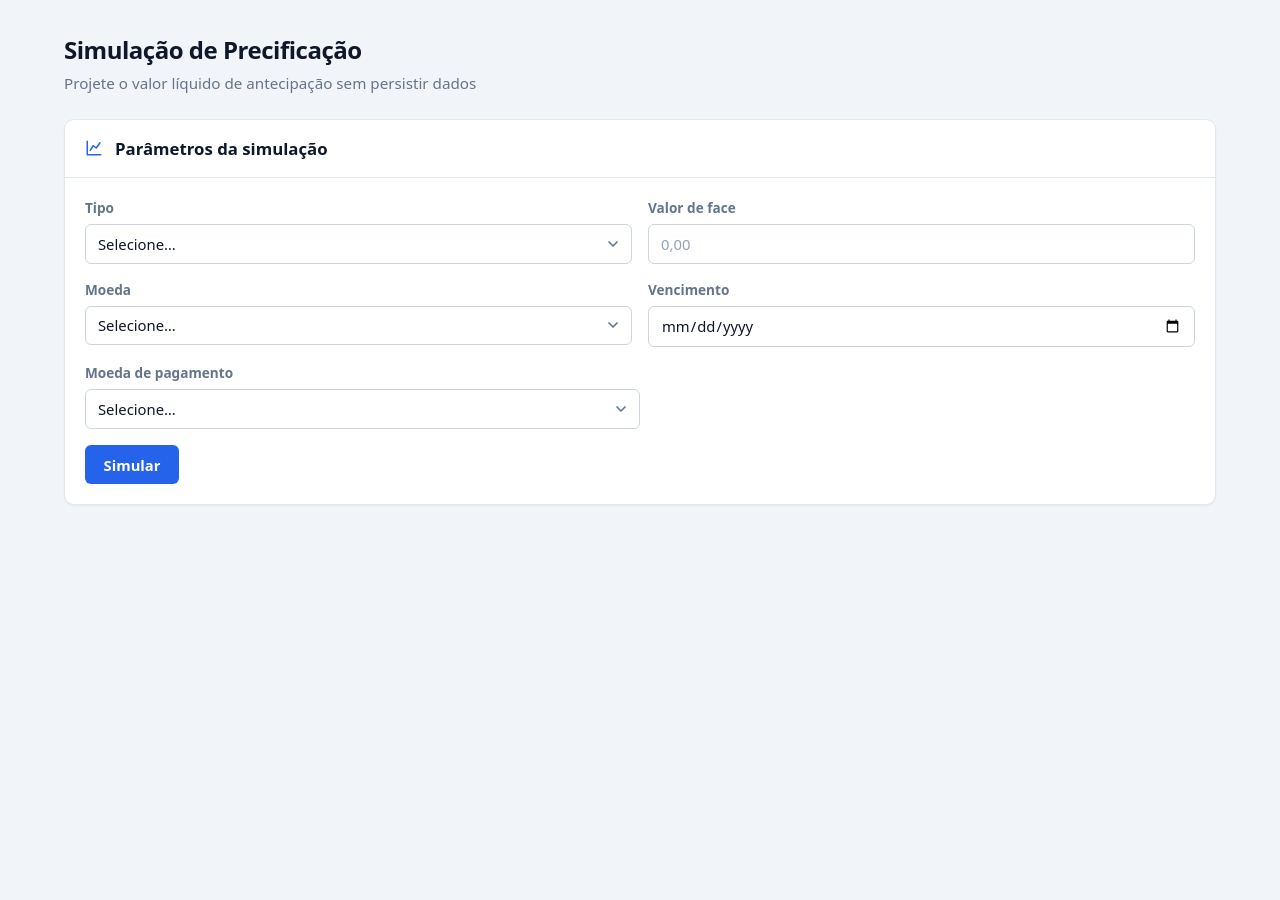
Scenario: SimulacaoPage › runs a simulation and shows the result
Select "DUPLICATA_MERCANTIL" in the dropdown labelled "Tipo": (358, 244) x1=85 y1=224 x2=632 y2=264
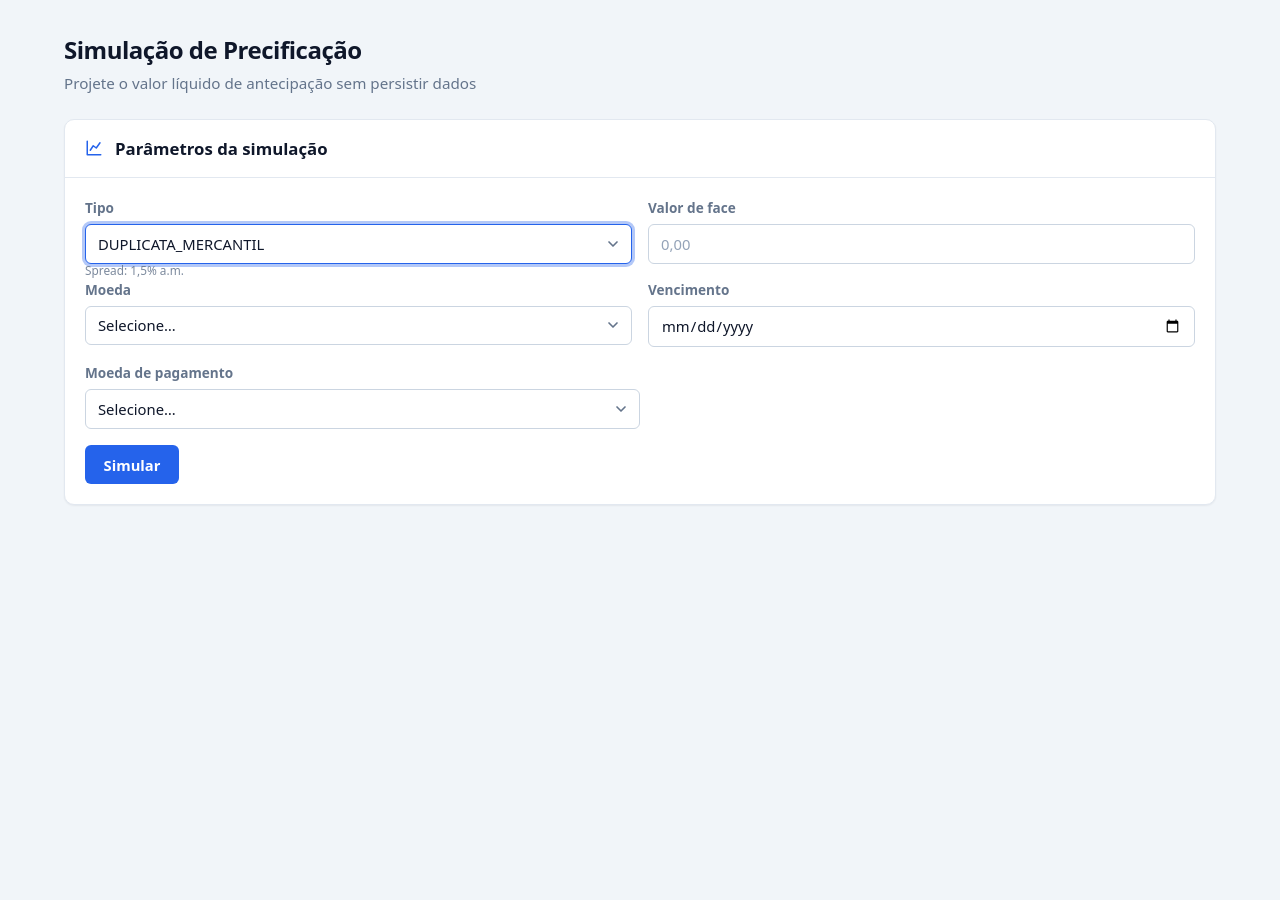
expect the text "Spread: 1,5% a.m." is shown: met, box x1=85 y1=262 x2=184 y2=280
In the number field labelled "Valor de face": (922, 244) x1=648 y1=224 x2=1195 y2=264, type "1000"
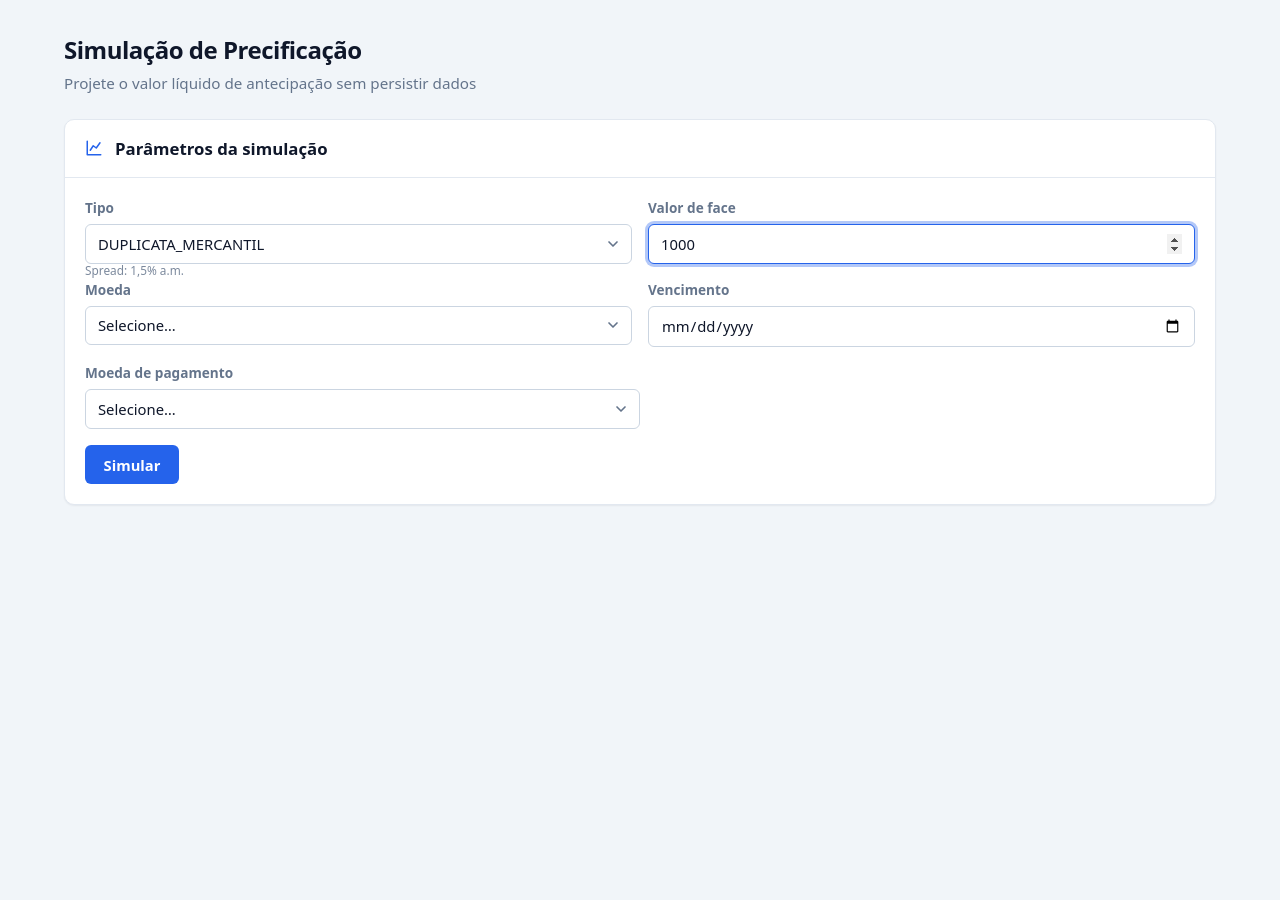
Select "BRL" in the dropdown labelled "Moeda": (358, 325) x1=85 y1=306 x2=632 y2=345
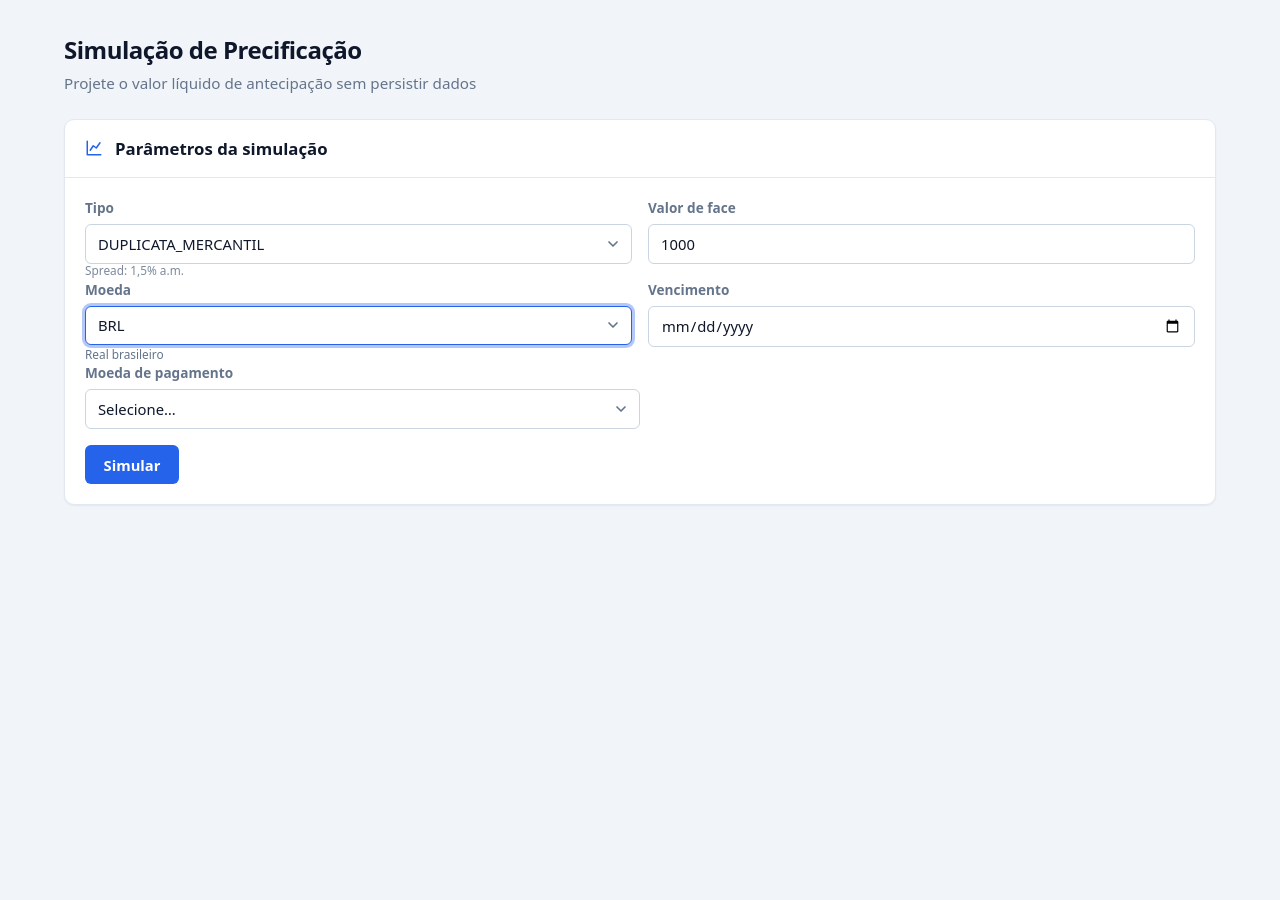
expect the text "Real brasileiro" is shown: met, box x1=85 y1=346 x2=164 y2=363
In the date field labelled "Vencimento": (922, 326) x1=648 y1=306 x2=1195 y2=347, type "2026-09-01"
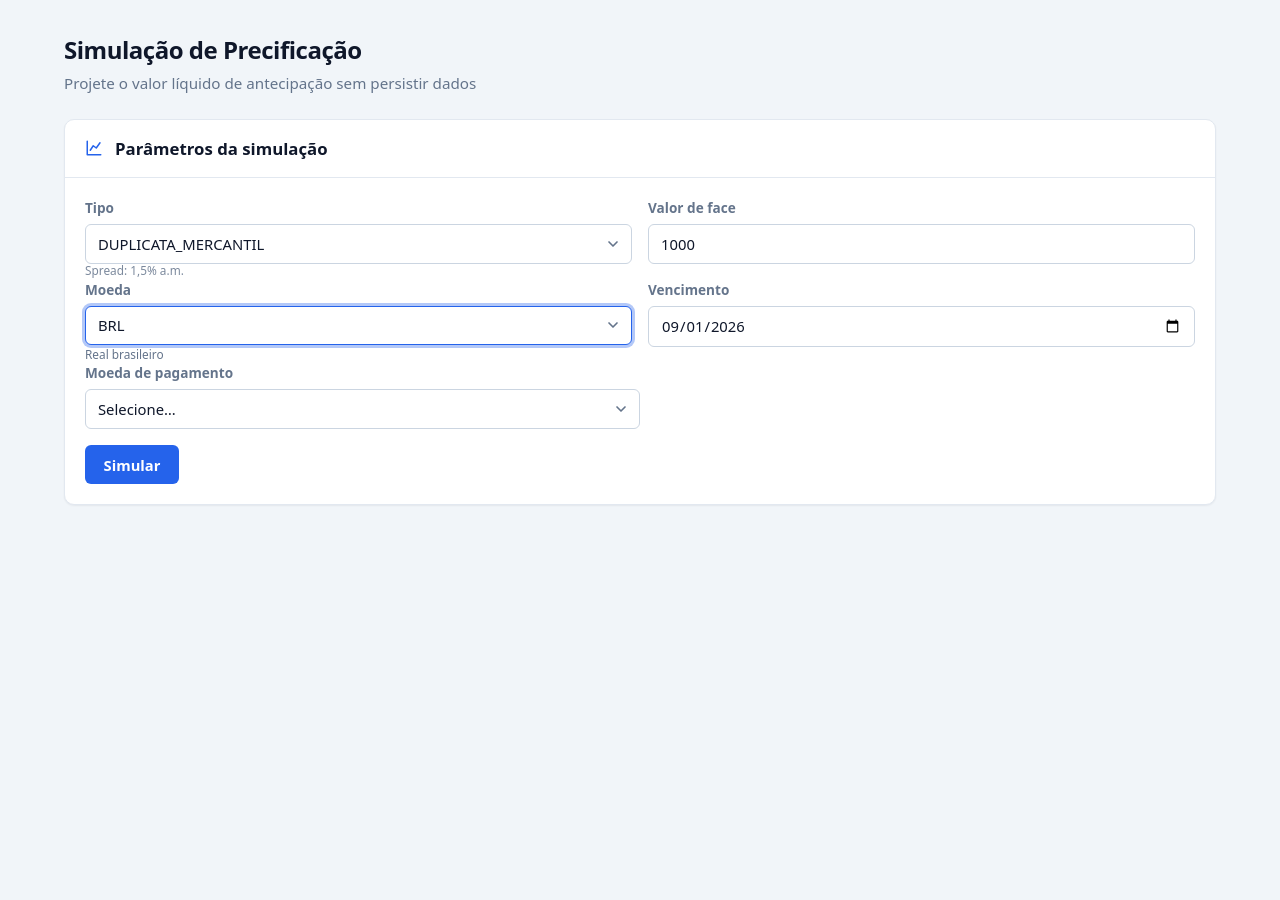
Select "BRL" in the dropdown labelled "Moeda de pagamento": (362, 409) x1=85 y1=389 x2=640 y2=429
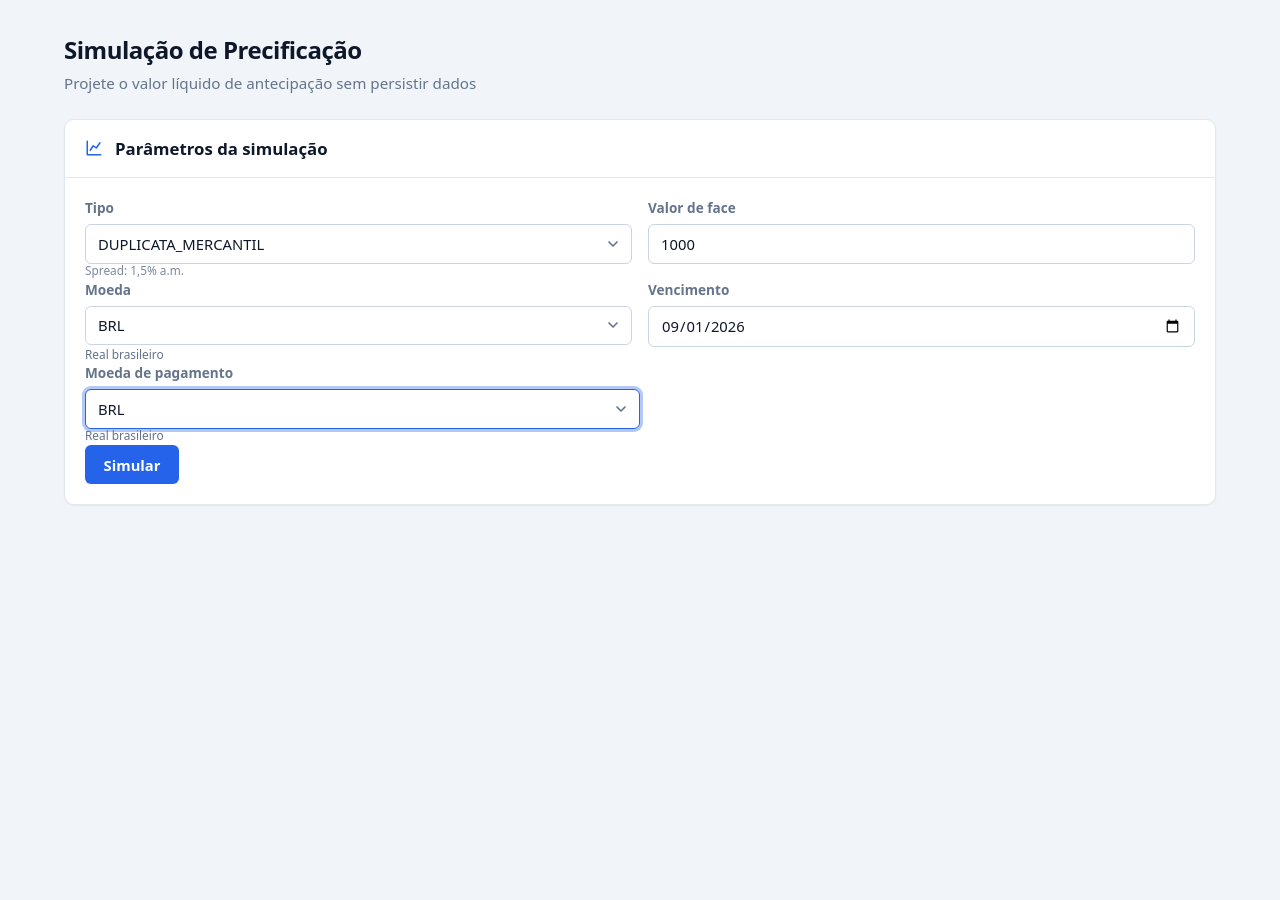
expect the text "Real brasileiro" is shown 2 times: met, box x1=85 y1=346 x2=164 y2=363; x1=85 y1=427 x2=164 y2=445
Click the button "Simular": click(132, 464) x1=85 y1=445 x2=179 y2=484
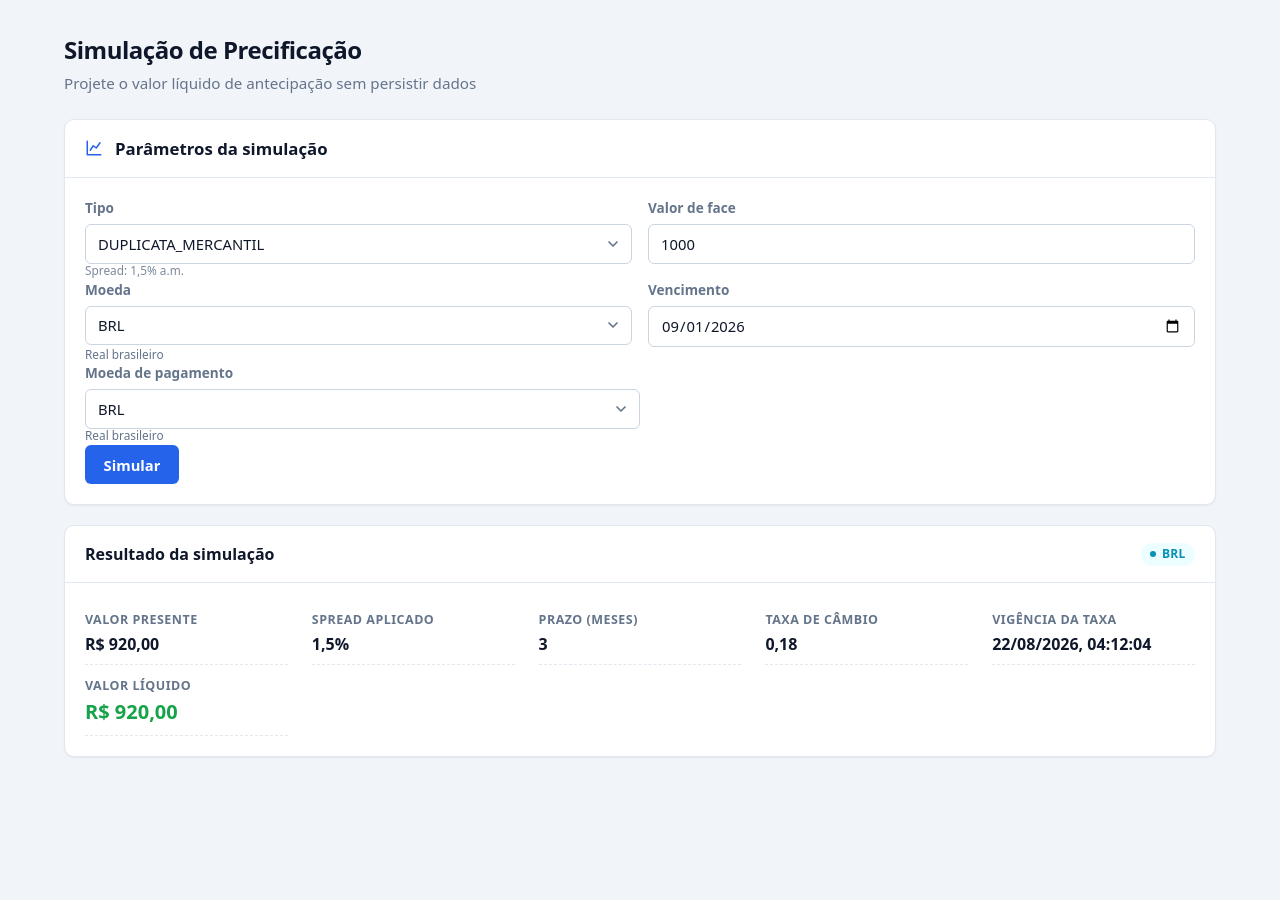
expect the element with test id "simulacao-resultado" is shown: met, box x1=64 y1=525 x2=1216 y2=757
expect the text "Valor líquido" is shown: met, box x1=85 y1=677 x2=191 y2=694
expect the text "1,5%" is shown: met, box x1=312 y1=633 x2=349 y2=655
